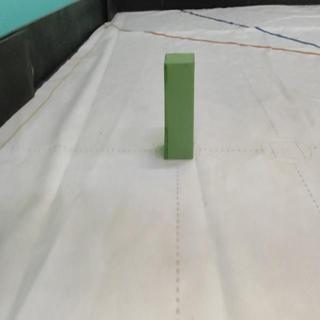greenbox: (161, 50, 197, 162)
